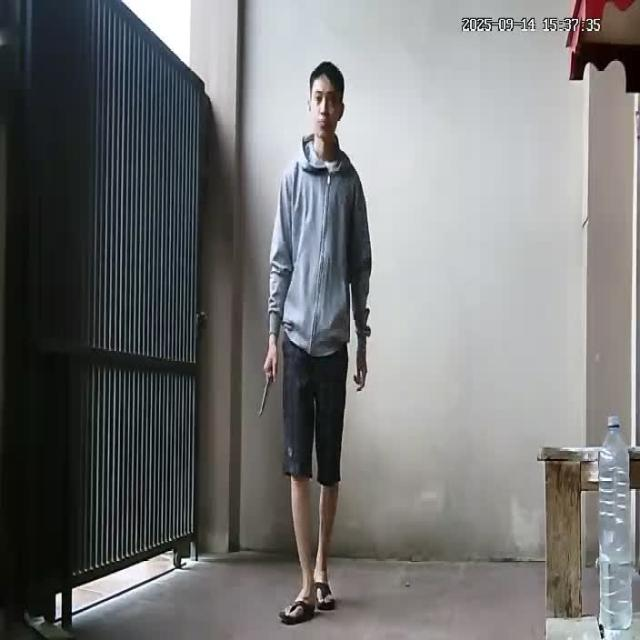senjata_tajam: (258, 374, 272, 418)
